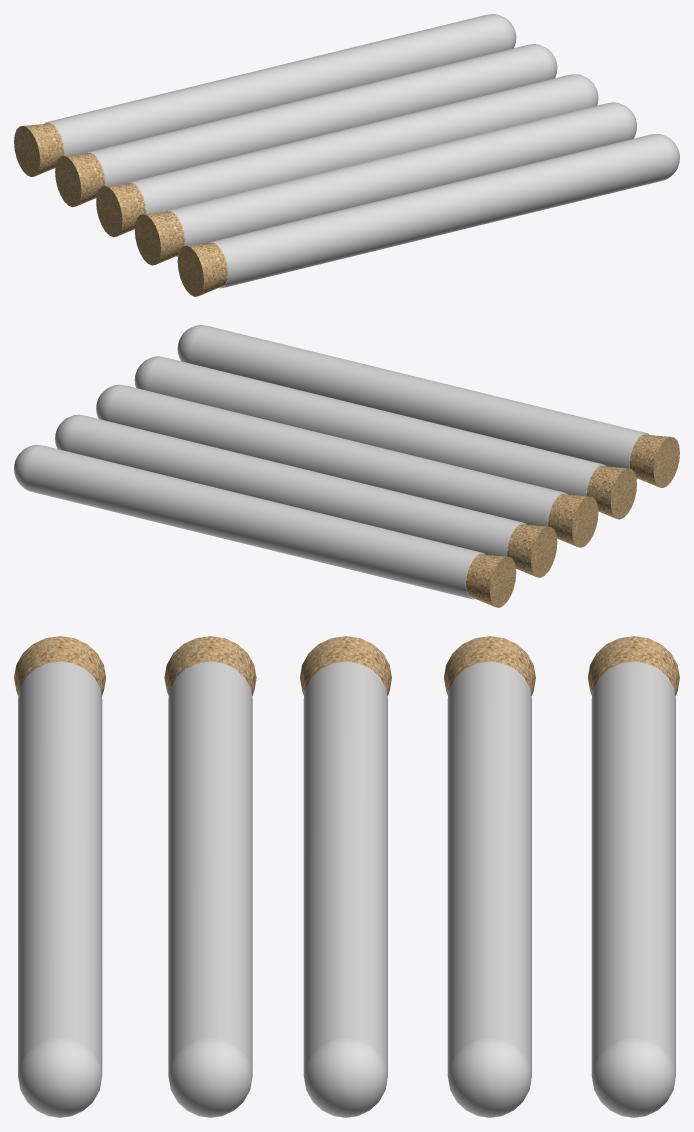
File: cork.fbx
The picture shows the model from 3 angles, top to bottom: view 1: azimuth 30°, elevation 25°; view 2: azimuth 150°, elevation 25°; view 3: azimuth 270°, elevation 25°; orthographic projection. The views are drawn at different scales.
Parts seen in each view (by area): view 1: pSphere4, pSphere3, pSphere6, pSphere5, pSphere2; view 2: pSphere6, pSphere4, pSphere2, pSphere5, pSphere3; view 3: pSphere3, pSphere2, pSphere4, pSphere5, pSphere6.
Boxes of the visible parts, x1,y1,x2,y2 form: pSphere4: (177, 134, 679, 296); pSphere3: (134, 102, 636, 265); pSphere6: (14, 14, 516, 176); pSphere5: (55, 44, 557, 207); pSphere2: (96, 74, 598, 237); pSphere6: (14, 445, 516, 607); pSphere4: (177, 325, 679, 487); pSphere2: (96, 384, 598, 547); pSphere5: (55, 414, 557, 577); pSphere3: (134, 356, 636, 519); pSphere3: (164, 636, 256, 1117); pSphere2: (300, 636, 391, 1117); pSphere4: (14, 636, 105, 1117); pSphere5: (444, 636, 535, 1117); pSphere6: (588, 636, 679, 1117).
Size of the model in its own units: 23.28 by 2.18 by 15.77.
2 materials, 1 textured.
